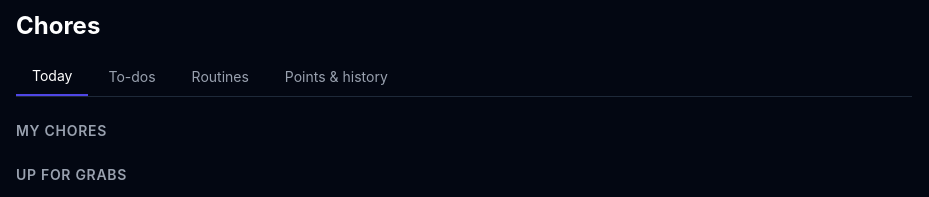
Test case: ChoresPage › Routines › says when there are none
This screenshot has width=929, height=197.
What coordinates should you click on to do the following:
click the tab "Routines"
I would click on:
 (220, 77)
Its box is [176,58,265,96].
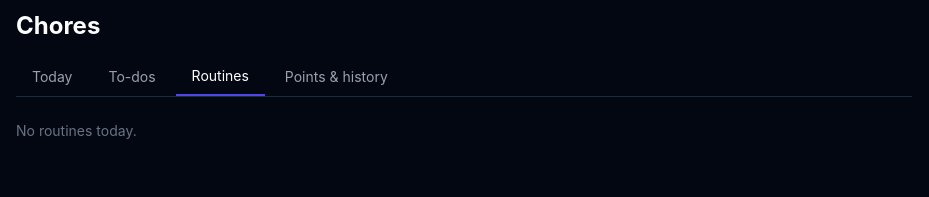
Result: the text "No routines today." is shown at [16,122,137,139]
